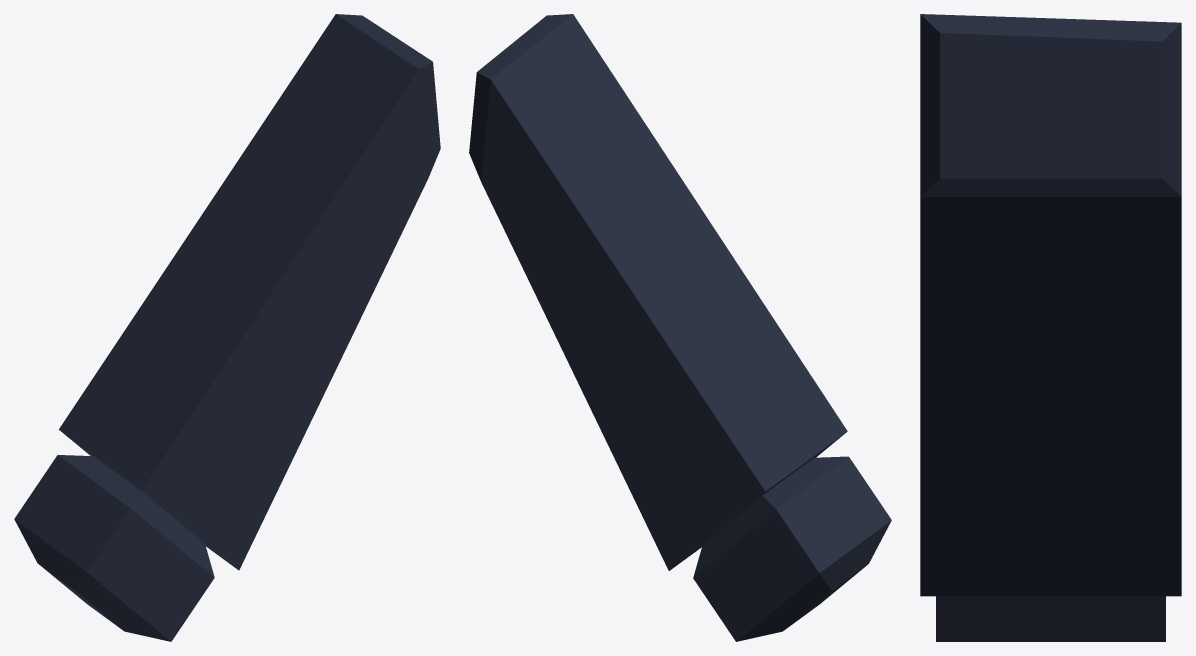
Rendered from float_R_arm.obj.
The picture shows the model from 3 angles, left to right: view 1: azimuth 30°, elevation 25°; view 2: azimuth 150°, elevation 25°; view 3: azimuth 270°, elevation 25°; orthographic projection. The views are drawn at different scales.
Parts seen in each view (by area): view 1: C_Hand_R; view 2: C_Hand_R; view 3: C_Hand_R.
Part boxes in pixels (box(x1,y1,x2,y2)): C_Hand_R: box(14, 14, 440, 641); C_Hand_R: box(469, 14, 891, 641); C_Hand_R: box(920, 14, 1181, 641).
Size of the model in its own units: 0.625 by 0.8708 by 0.2534.
1 material, 1 textured.
